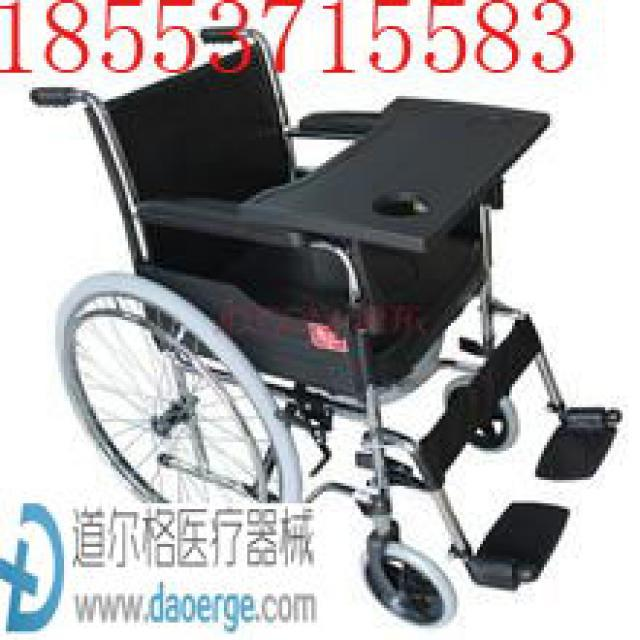wheelchair: (23, 20, 637, 626)
